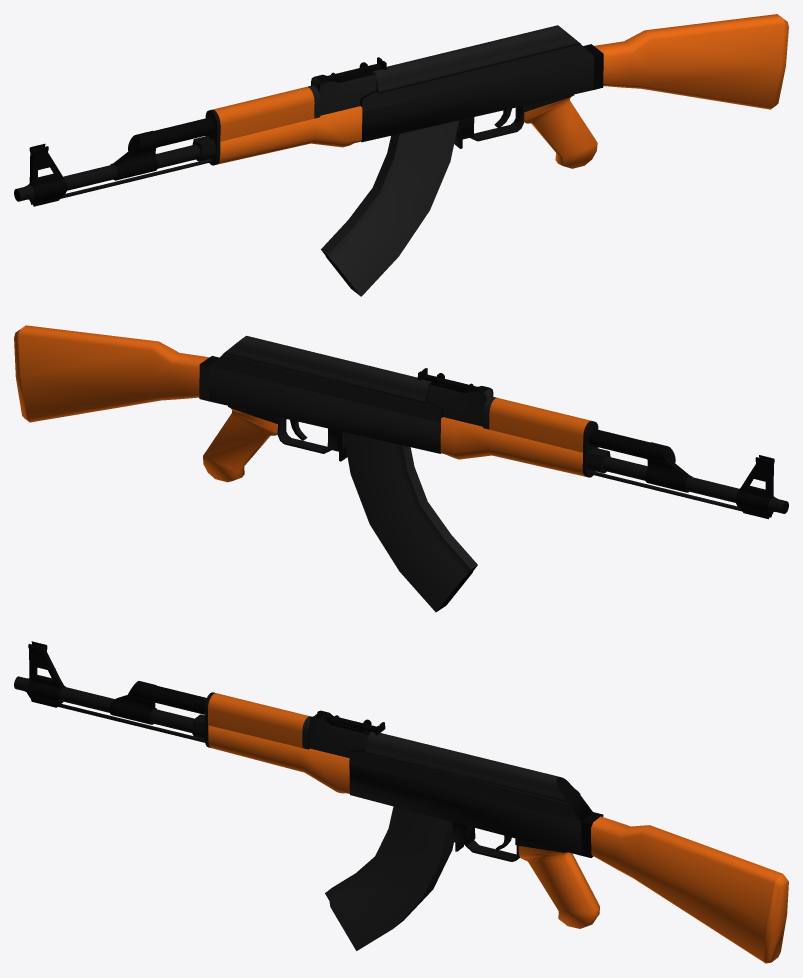
3 views of the same model, one above another, from view 1: azimuth 30°, elevation 25°; view 2: azimuth 150°, elevation 25°; view 3: azimuth 330°, elevation 25° (orthographic).
Visible parts, largest first — view 1: AK-47; view 2: AK-47; view 3: AK-47.
Part boxes in pixels (x1,y1,x2,y2): AK-47: (14, 14, 788, 296); AK-47: (14, 325, 788, 612); AK-47: (14, 641, 788, 963).
Bounding box in the file's own units: 8700 × 2495 × 304.
1 material, 1 textured.
